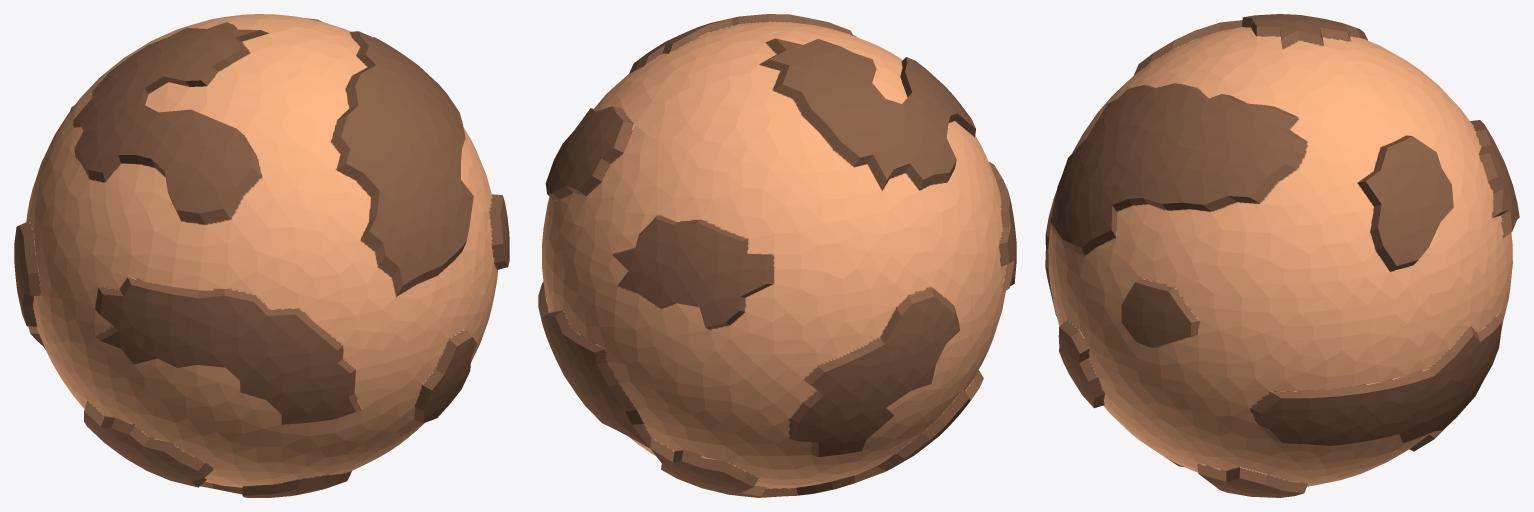
Rendered from mercury.gltf.
3 views of the same model, side by side, from view 1: azimuth 30°, elevation 25°; view 2: azimuth 150°, elevation 25°; view 3: azimuth 270°, elevation 25° (orthographic). The views are drawn at different scales.
Parts seen in each view (by area): view 1: Mercury; view 2: Mercury; view 3: Mercury.
Boxes of the visible parts, box(x1,y1,x2,y2) form: Mercury: box(14, 14, 509, 497); Mercury: box(538, 14, 1016, 497); Mercury: box(1045, 14, 1519, 497).
Size of the model in its own units: 2.04 by 2.09 by 2.06.
Materials: 2 (2 with a texture image).
